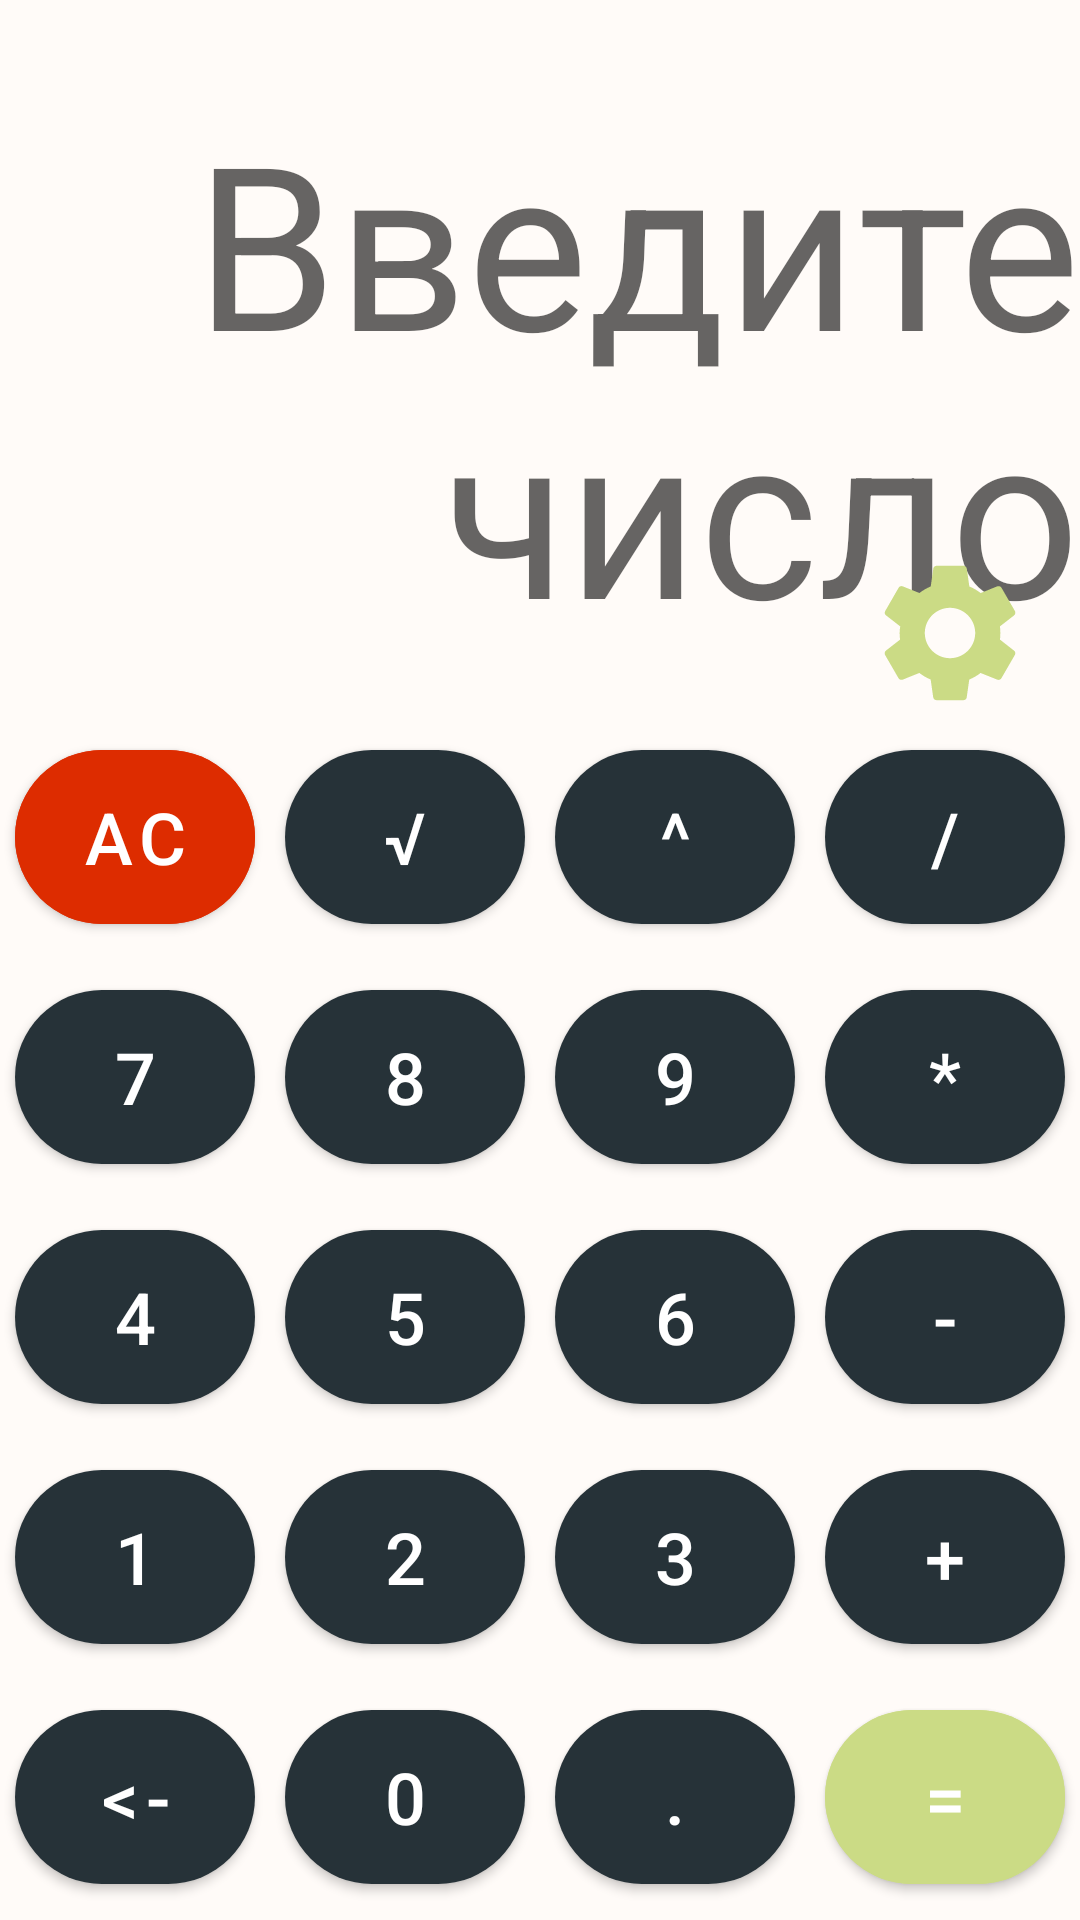

Point at icon controls on the screen. Image size 1080px x 1920px, points as point (x, y).
settings: point (950, 625)
